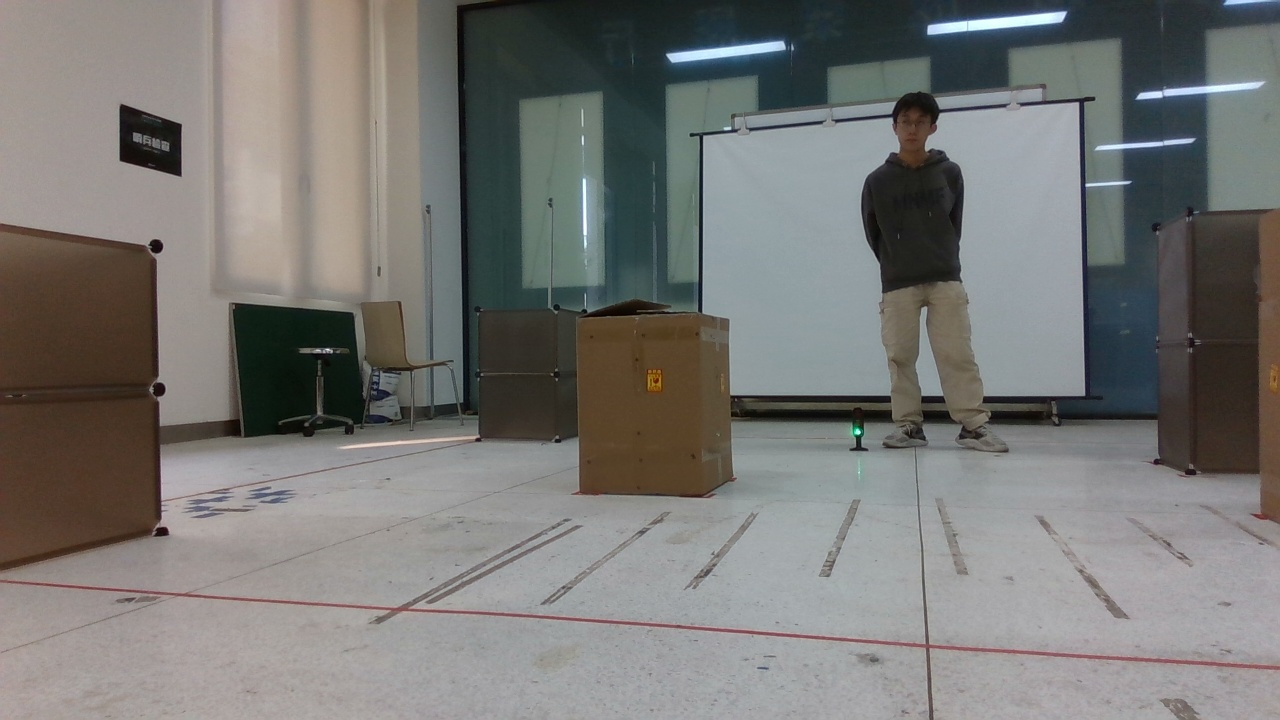green_light: (842, 399, 875, 452)
